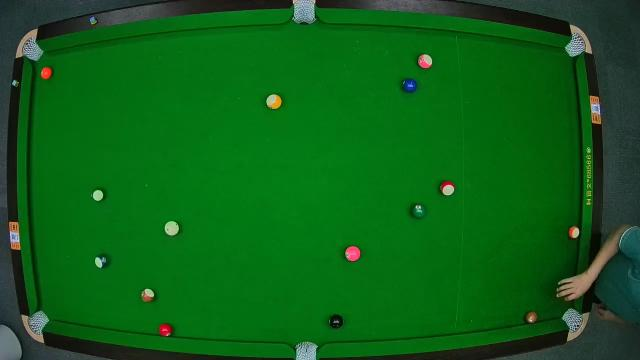bag1: (20, 40, 40, 61)
bag2: (292, 1, 316, 25)
bag3: (566, 35, 588, 55)
bag4: (28, 311, 48, 333)
bag5: (293, 340, 319, 360)
bag6: (562, 308, 582, 332)
ball0: (164, 220, 180, 236)
ball10: (94, 255, 110, 269)
ball11: (441, 181, 455, 197)
ball12: (419, 54, 433, 70)
ball13: (568, 225, 580, 239)
ball14: (90, 188, 106, 204)
ball15: (138, 288, 154, 302)
ball2: (402, 78, 416, 92)
ball3: (157, 321, 173, 337)
ball4: (346, 245, 362, 261)
ball5: (40, 66, 52, 80)
ball6: (410, 204, 424, 220)
ball7: (524, 311, 538, 325)
ball8: (328, 314, 344, 329)
ball9: (268, 94, 282, 110)
